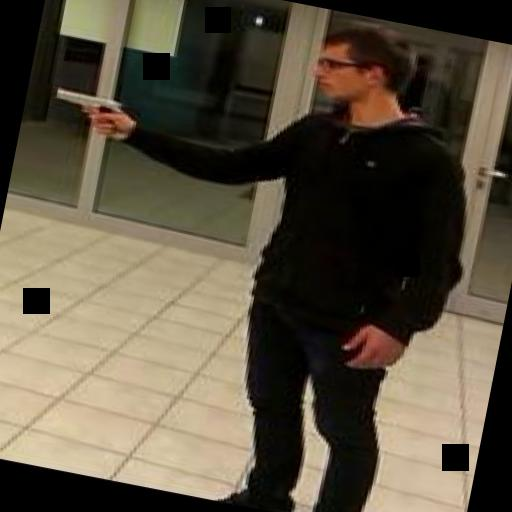Handgun: (42, 81, 126, 139)
